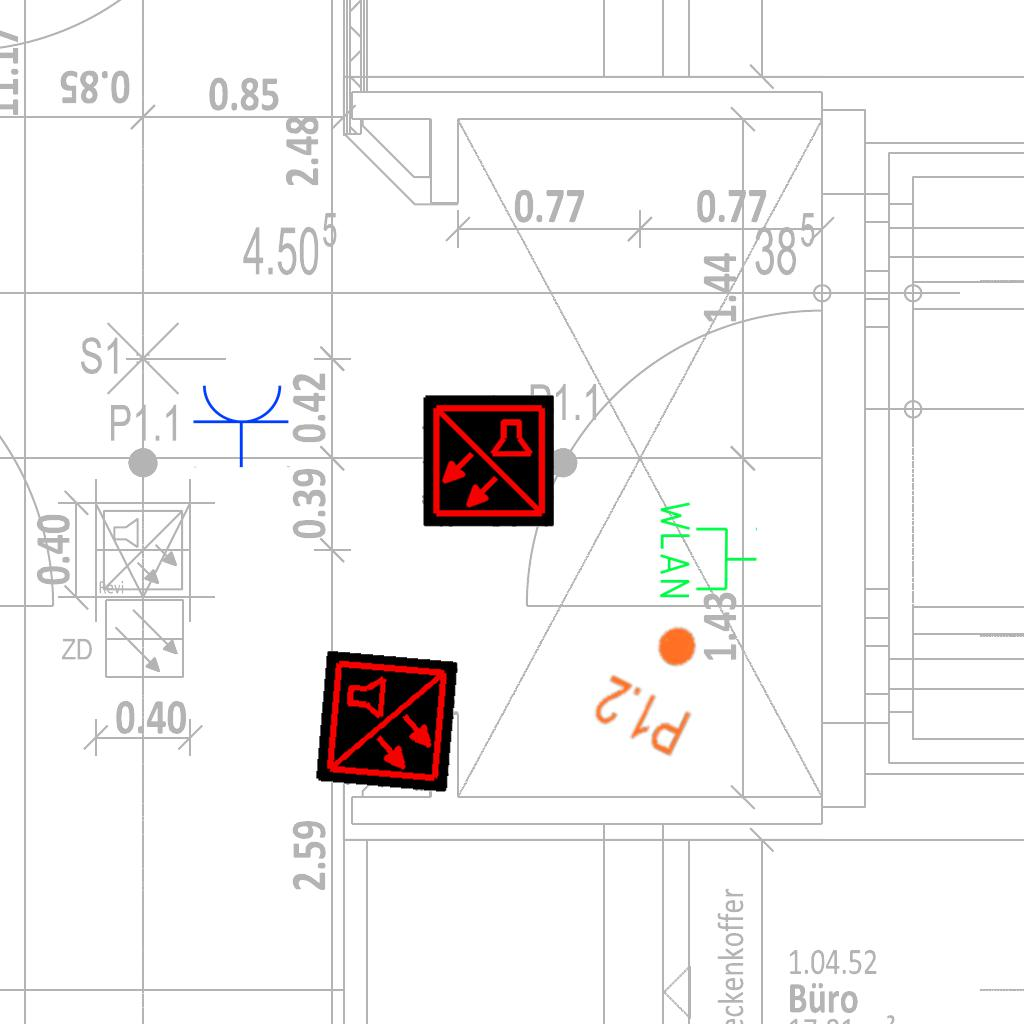Downlight_LED_Einbauleuchten_Flur: (587, 605, 728, 761)
OKW_Multisensormelder_(Kombination_optischer_Rauch-Kahlenmonoxid_Waerme-Melder): (315, 650, 459, 794), (422, 395, 554, 527)
Schukosteckdose_einfach: (192, 381, 292, 468)
WLAN: (656, 497, 760, 602)
